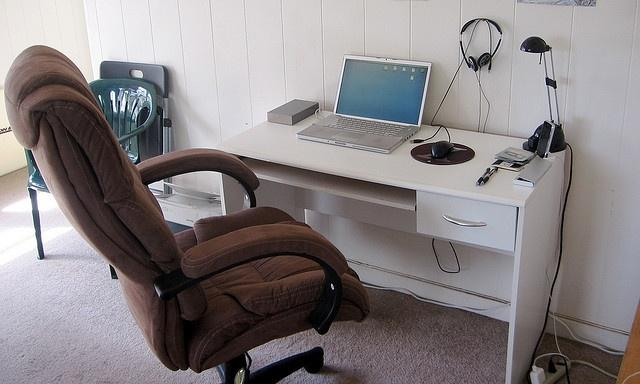Meja: (213, 105, 565, 261)
